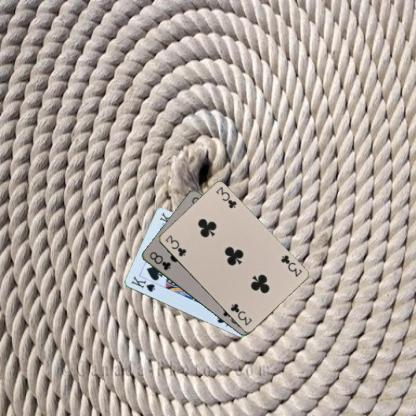3c: (162, 233, 188, 258), (278, 252, 303, 278)
8c: (147, 249, 172, 272)
Ks: (128, 274, 156, 294)
